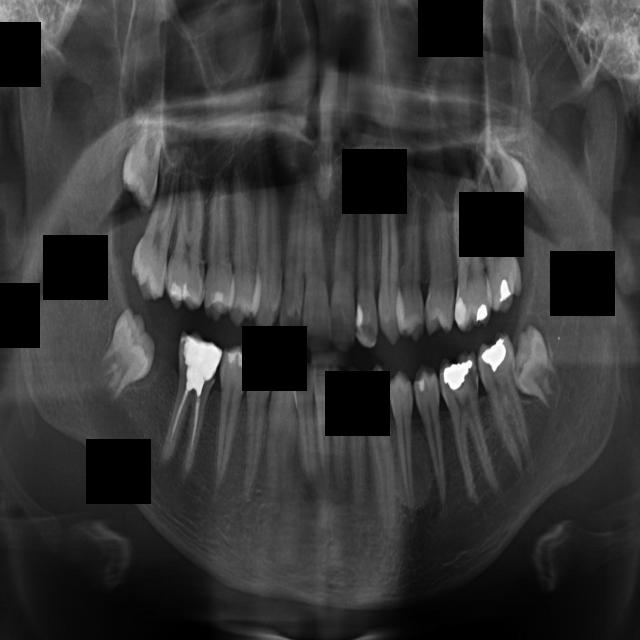3M ESPE Implant: (115, 102, 166, 213)
AGS Medikal Implant: (472, 326, 540, 493)
AMerOss Implant: (434, 346, 504, 508)
Amalgam filling: (124, 143, 185, 306)
Anthogyr Implant: (411, 360, 454, 519)
Bicon Implant: (385, 366, 430, 528)
BioHorizons Implant: (362, 360, 401, 537)
BioLife Implant: (347, 363, 366, 513)
Biomet 3i Implant: (331, 360, 349, 492)
Blue Sky Bio Implant: (314, 364, 331, 489)
Camlog Implant: (295, 361, 319, 491)
Caries: (352, 150, 379, 351)
Composite filling: (264, 347, 298, 524)
Cowellmedi Implant: (232, 350, 276, 508)
Crown: (195, 335, 254, 506)
DENTSPLY Implant: (166, 164, 205, 314)
Dentatus Implant: (189, 411, 189, 412)
Dentium Implant: (86, 298, 172, 414)
Euroteknika Implant: (201, 170, 238, 325)
Filling: (228, 158, 258, 330)
Frontier Implant: (253, 118, 283, 339)
Hiossen Implant: (376, 134, 404, 349)
Implant: (301, 175, 338, 354)
Implant Direct: (277, 168, 314, 343)
Keystone Dental Implant: (328, 182, 356, 357)
MIS Implant: (399, 182, 425, 345)
Mandible: (424, 187, 456, 337)
Maxilla: (450, 165, 492, 338)
Megagen Implant: (465, 136, 529, 317)
Neodent Implant: (474, 118, 540, 228)
Neoss Implant: (512, 319, 564, 414)
